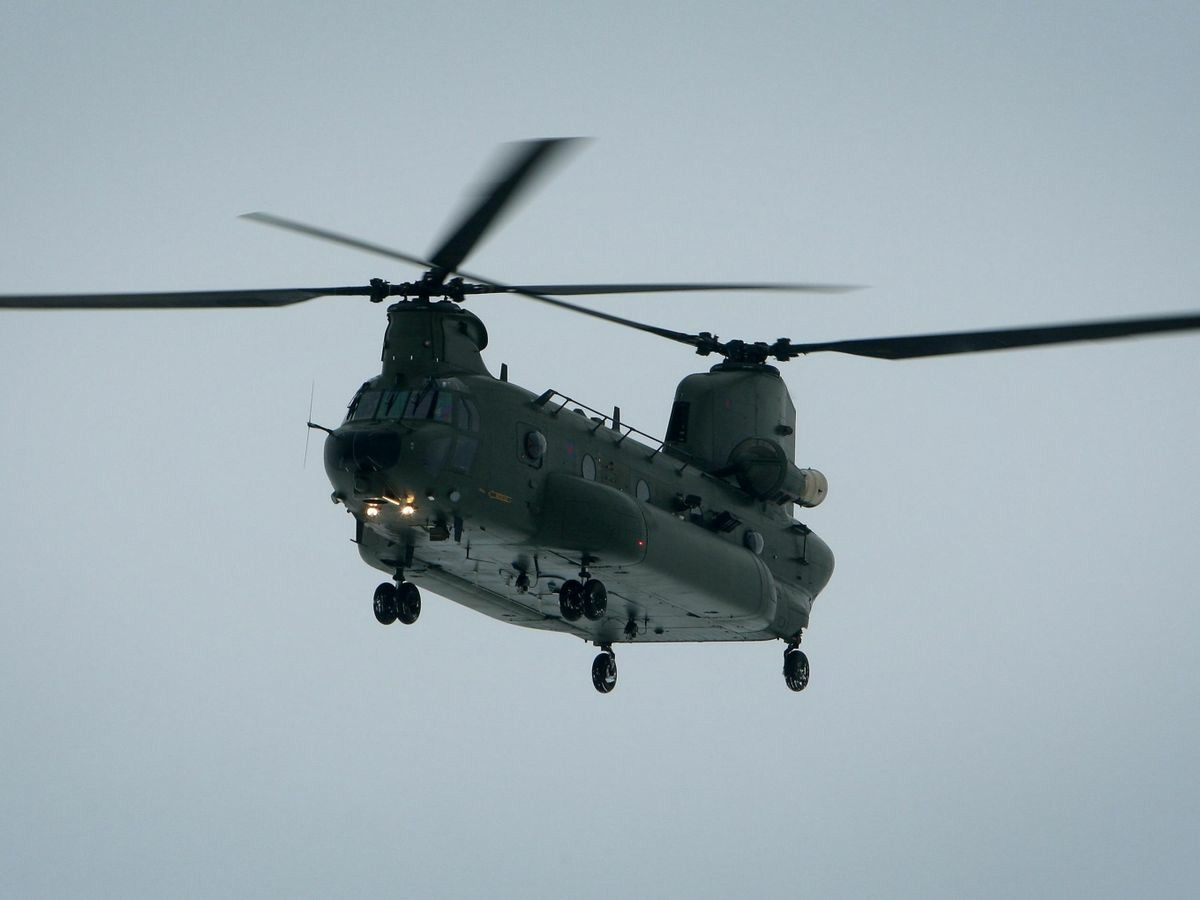chinook: (258, 233, 899, 715)
